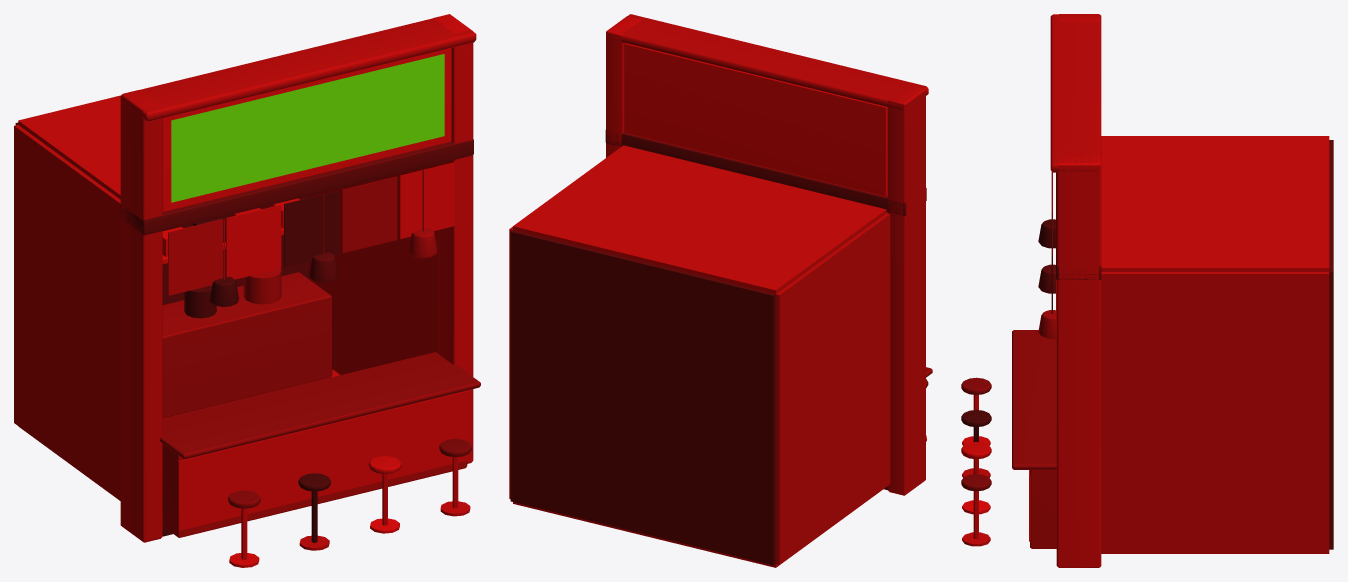
Rendered from shop_food_a.glb.
The picture shows the model from 3 angles, left to right: view 1: azimuth 30°, elevation 25°; view 2: azimuth 150°, elevation 25°; view 3: azimuth 270°, elevation 25°; orthographic projection. The views are drawn at different scales.
Visible parts, largest first — view 1: shop_food_a; view 2: shop_food_a; view 3: shop_food_a.
Boxes of the visible parts, x1=… form: shop_food_a: x1=14, y1=14, x2=480, y2=567; shop_food_a: x1=509, y1=14, x2=932, y2=567; shop_food_a: x1=961, y1=14, x2=1333, y2=567.
Bounding box in the file's own units: 4 × 5 × 4.17.
